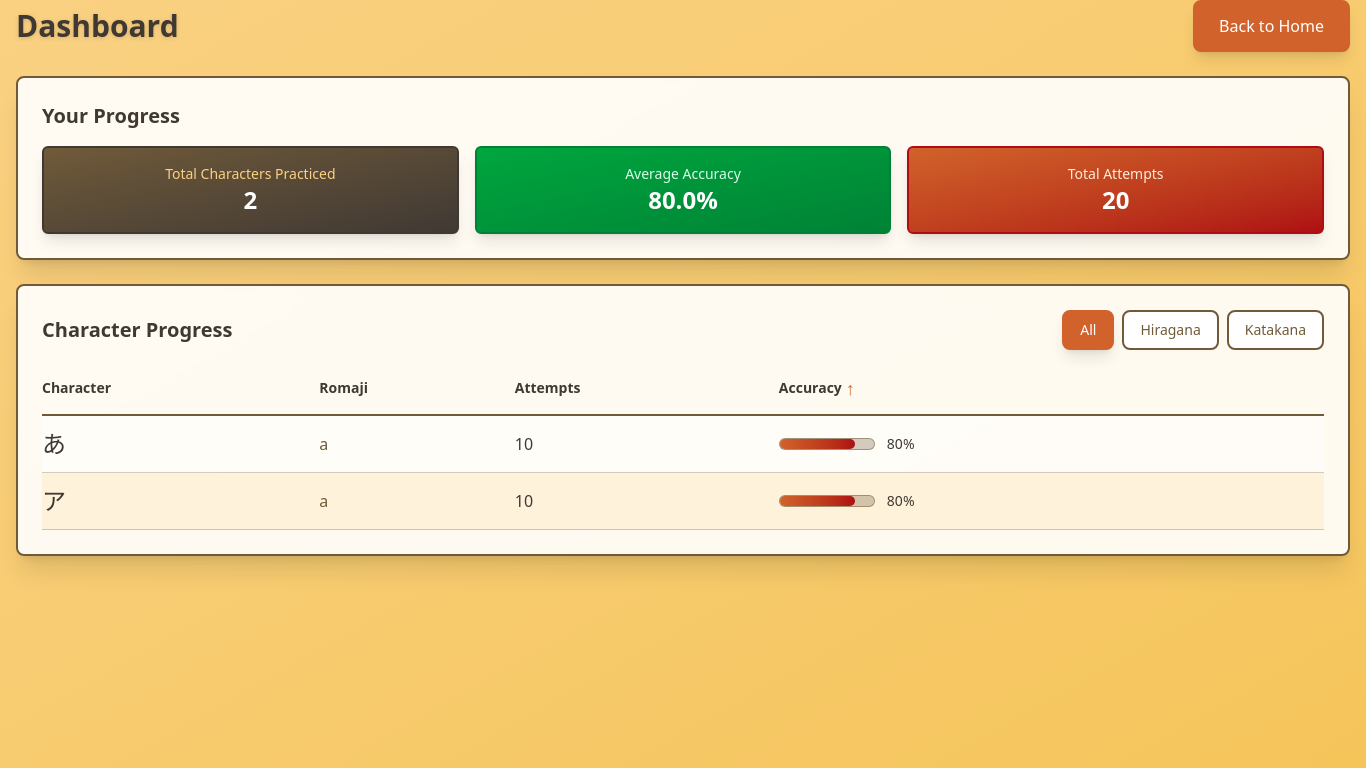
Test: Dashboard Component › filters by kana type
The width and height of the screenshot is (1366, 768).
Expected: the heading "Your Progress" is shown, [42,102,180,129]
Expected: the text "あ" is shown, [42,415,319,472]
Click Hiragana filter using test-id
Click the button with test id "filter-hiragana".
click(1171, 330)  # box [1122,310,1219,350]
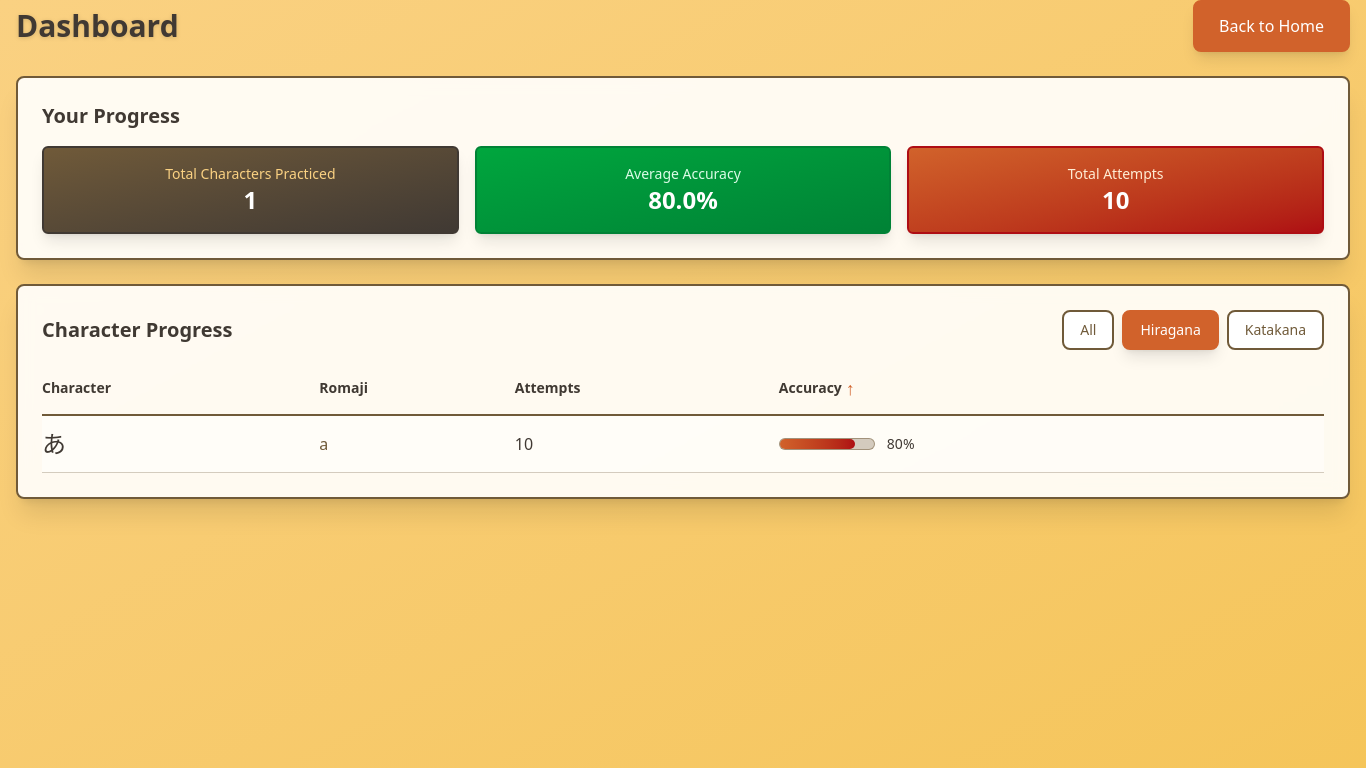
Expected: the text "あ" is shown, [42,415,319,472]
Expected: the text "ア" is gone
